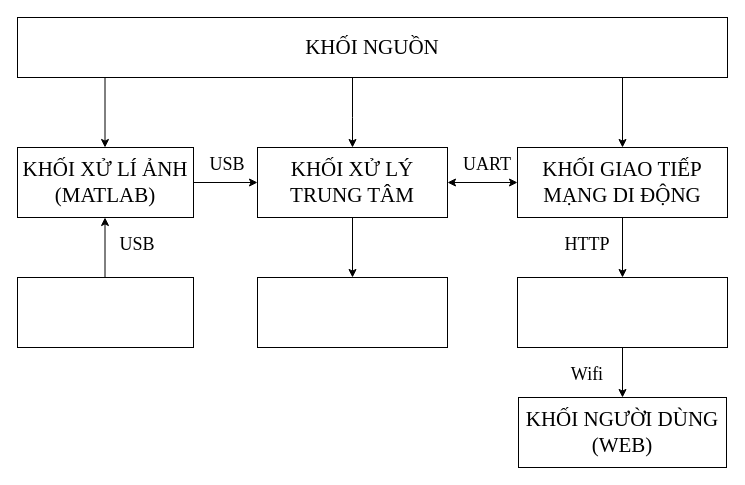
The diagram is 745 pixels wide and 485 high, and some of its shapes have lost their labels. The centre of each missing label's shape, as x and y in pixels:
"CƠ SỞ DỮ LIỆU" belongs at point (622, 312).
"KHỐI BÁO HIỆU" belongs at point (352, 312).
"KHỐI MÁY ẢNH" belongs at point (105, 312).
